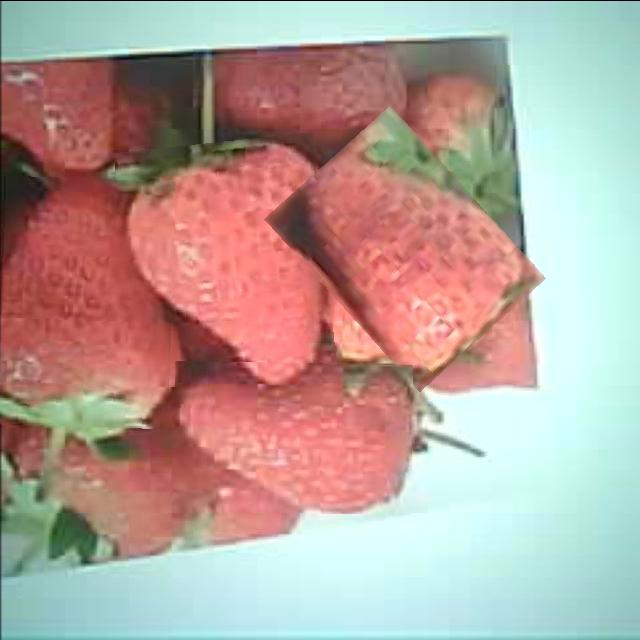strawberry: (292, 118, 518, 378), (120, 136, 332, 384), (0, 177, 174, 427), (174, 360, 412, 512)
